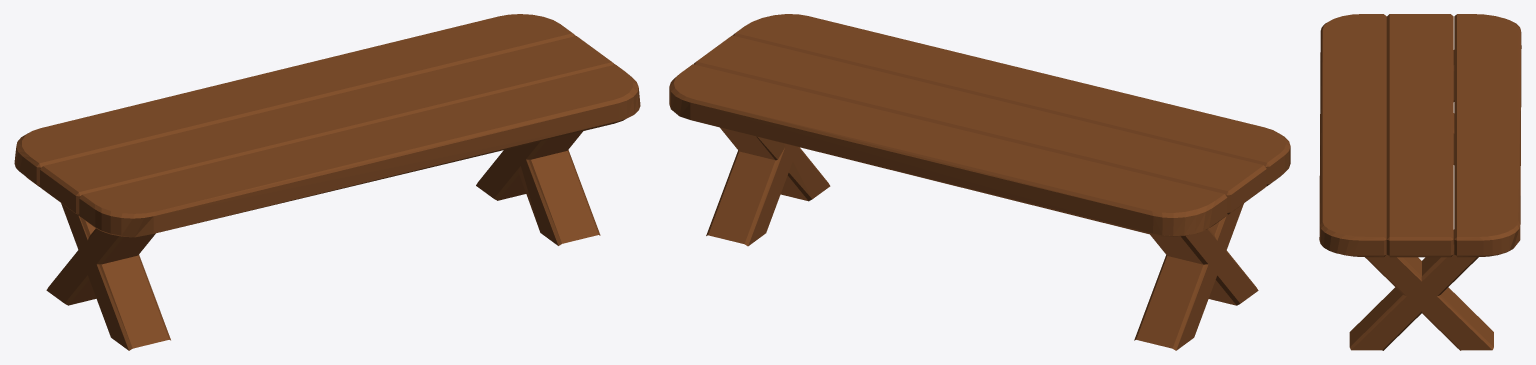
File: TableChairs.fbx
3 views of the same model, side by side, from view 1: azimuth 30°, elevation 25°; view 2: azimuth 150°, elevation 25°; view 3: azimuth 270°, elevation 25° (orthographic). The views are drawn at different scales.
Visible parts, largest first — view 1: Table; view 2: Table; view 3: Table.
Boxes of the visible parts, <box> form: Table: <box>14,14,640,350</box>; Table: <box>669,14,1290,350</box>; Table: <box>1319,14,1521,350</box>.
Size of the model in its own units: 235 by 63.03 by 89.15.
